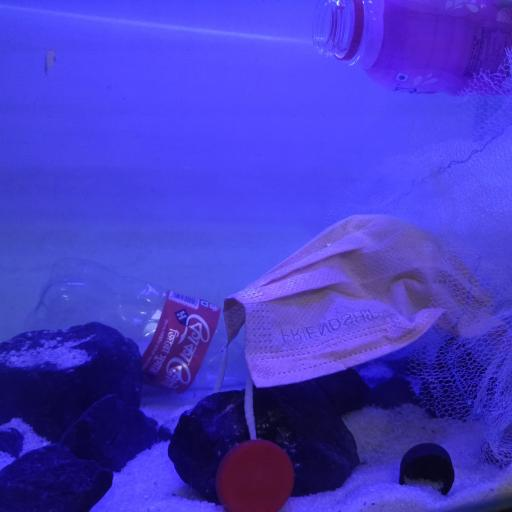bottle_cap: (216, 439, 293, 512), (400, 443, 456, 497)
mask: (223, 213, 512, 399)
net: (320, 46, 512, 470)
plastic_bottle: (23, 256, 253, 392), (315, 0, 512, 98)
